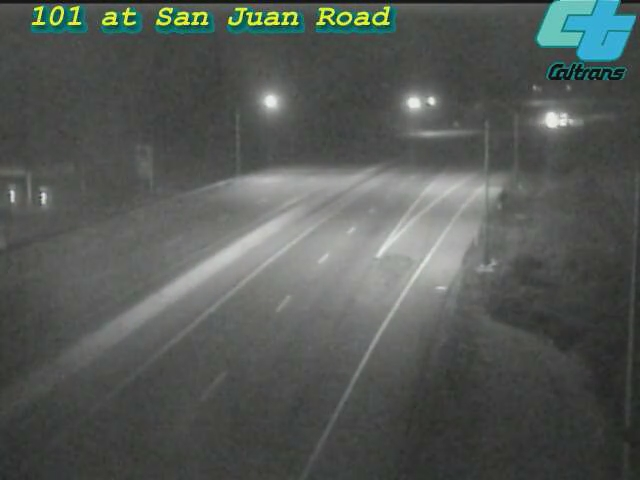vehicle: (541, 96, 591, 146), (526, 95, 576, 145)
